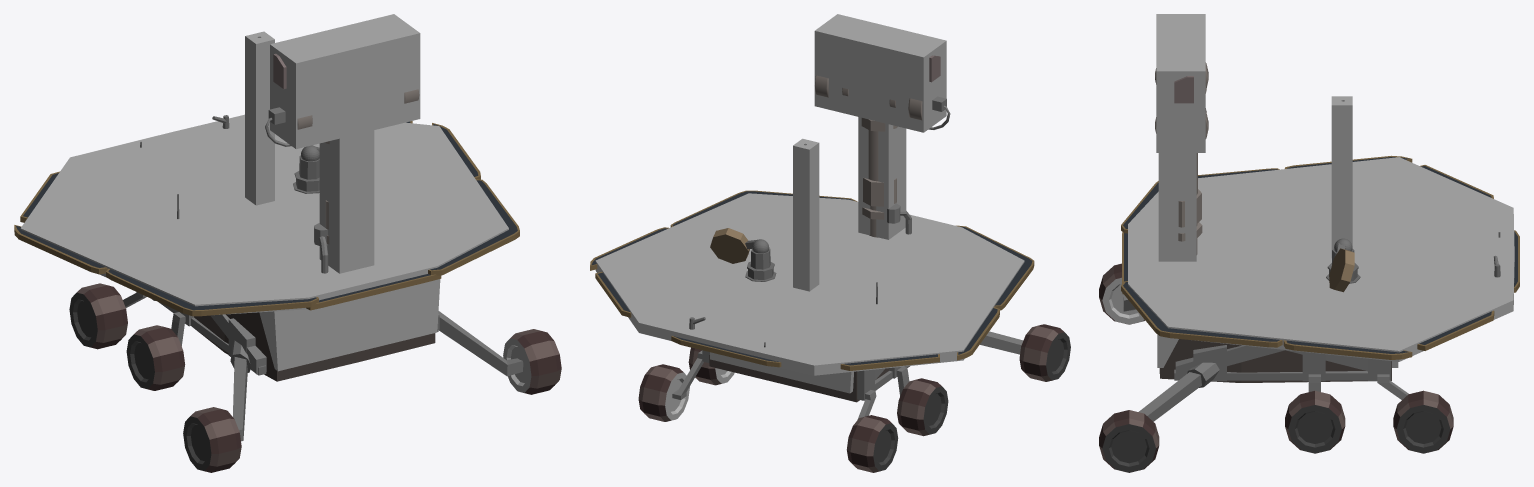
File: Rover.fbx
3 views of the same model, side by side, from view 1: azimuth 30°, elevation 25°; view 2: azimuth 150°, elevation 25°; view 3: azimuth 270°, elevation 25° (orthographic). The views are drawn at different scales.
Visible parts, largest first — view 1: rover col non, Panels, Body, Wheel mid.R, Wheel back.R, Wheel front.R, Wheel front.L, Cube.003, Large misc, wheel connect front.L, wheel connect front.R; view 2: rover col non, Panels, Large misc, Wheel mid.R, Wheel back.R, Wheel front.R, Wheel back.L, Circle, Body, Cube.003, Wheel mid.L, Circle.001 (+1 smaller); view 3: rover col non, Panels, Cube.002, Wheel mid.L, Wheel front.L, Wheel back.L, Body, wheel connect front.L, Large misc, Wheel front.R, Circle, Cube.001.
Part boxes in pixels (box(x1,y1,x2,y2)): rover col non: box(20, 14, 508, 371); Panels: box(14, 121, 519, 316); Body: box(194, 312, 435, 381); Wheel mid.R: box(126, 325, 185, 390); Wheel back.R: box(69, 283, 127, 349); Wheel front.R: box(183, 407, 241, 472); Wheel front.L: box(503, 329, 561, 394); Cube.003: box(152, 299, 266, 375); Large misc: box(140, 36, 328, 273); wheel connect front.L: box(438, 311, 523, 376); wheel connect front.R: box(230, 340, 250, 441); rover col non: box(595, 14, 1024, 393); Panels: box(590, 190, 1034, 370); Large misc: box(689, 143, 911, 347); Wheel mid.R: box(897, 378, 948, 436); Wheel back.R: box(846, 415, 898, 472); Wheel front.R: box(1019, 324, 1070, 381); Wheel back.L: box(638, 364, 689, 421); Circle: box(861, 118, 897, 237); Body: box(709, 352, 909, 402); Cube.003: box(857, 366, 908, 400); Wheel mid.L: box(688, 347, 734, 385); Circle.001: box(814, 75, 922, 120); rover col non: box(1128, 14, 1514, 367); Panels: box(1121, 155, 1519, 359); Cube.002: box(1174, 345, 1391, 381); Wheel mid.L: box(1285, 390, 1345, 453); Wheel front.L: box(1099, 410, 1159, 472); Wheel back.L: box(1393, 390, 1453, 453); Body: box(1159, 339, 1391, 382); wheel connect front.L: box(1139, 362, 1219, 421); Large misc: box(1326, 100, 1500, 292); Wheel front.R: box(1099, 263, 1144, 324); Circle: box(1178, 153, 1202, 254); Cube.001: box(1174, 76, 1193, 103).
Size of the model in its own units: 472 by 388 by 421.
